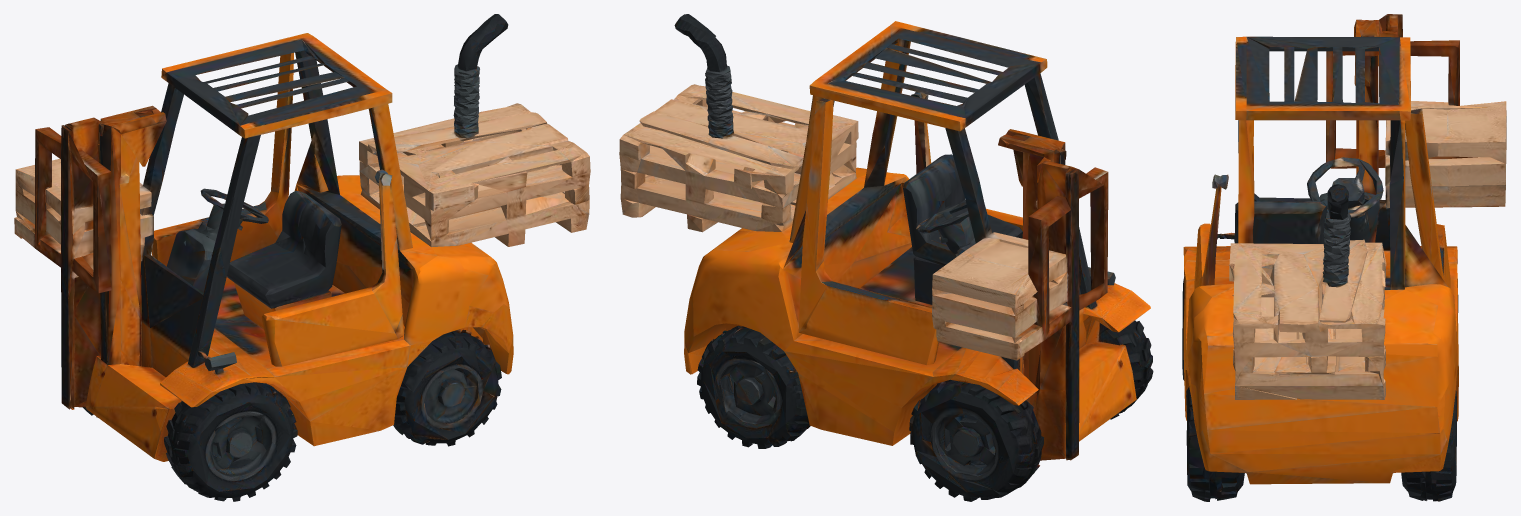
File: forklift.glb
3 views of the same model, side by side, from view 1: azimuth 30°, elevation 25°; view 2: azimuth 150°, elevation 25°; view 3: azimuth 270°, elevation 25° (orthographic). The views are drawn at different scales.
Parts seen in each view (by area): view 1: Mesh_0; view 2: Mesh_0; view 3: Mesh_0.
Part boxes in pixels (<box>): Mesh_0: <box>14,14,590,501</box>; Mesh_0: <box>619,14,1153,501</box>; Mesh_0: <box>1182,14,1506,501</box>.
Size of the model in its own units: 1.9 by 1.43 by 1.13.
1 material, 1 textured.
